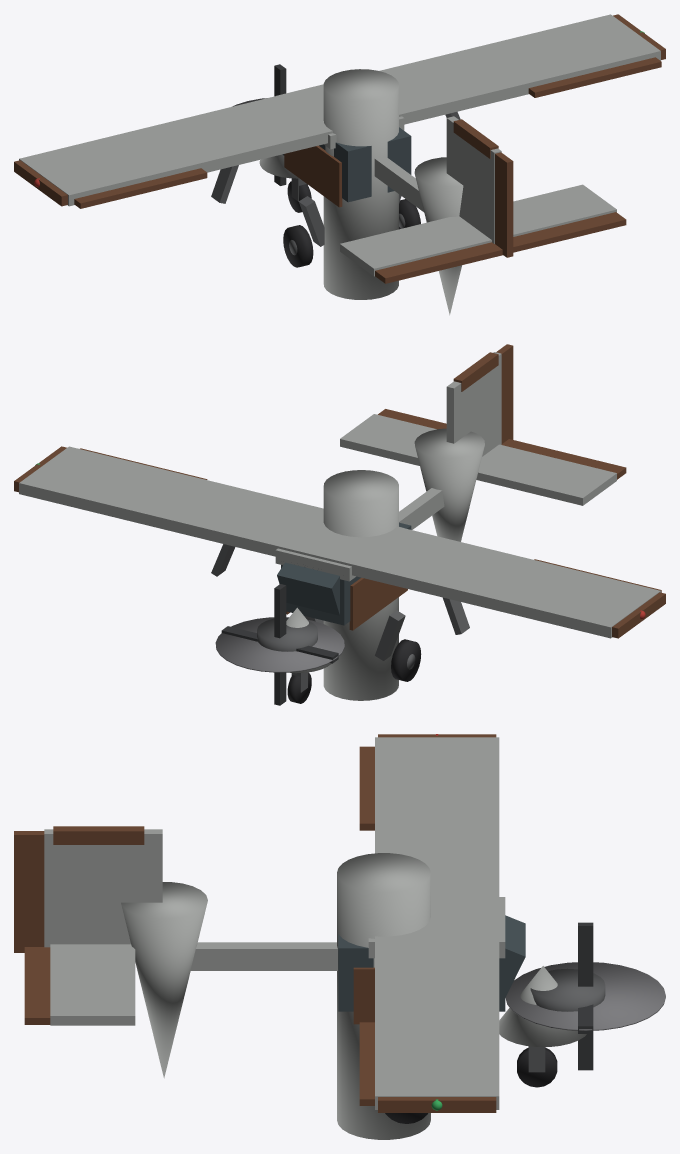
The model's file is light_aircraft_v1.glb.
3 renders of one model, top to bottom at view 1: azimuth 30°, elevation 25°; view 2: azimuth 150°, elevation 25°; view 3: azimuth 270°, elevation 25°, orthographic. The views are drawn at different scales.
Visible parts, largest first — view 1: Plane_Hull, Elevator, Rudder, Aileron_L, Aileron_R, Wheel_Main_L, Plane_Prop; view 2: Plane_Hull, Disc_Blur, Plane_Prop, Elevator, Rudder, Wheel_Main_L; view 3: Plane_Hull, Disc_Blur, Rudder, Elevator, Plane_Prop, Aileron_L, Aileron_R, Wheel_Nose.
Part boxes in pixels (x1,y1,x2,y2): Plane_Hull: [14, 14, 665, 315]; Elevator: [375, 212, 626, 283]; Rudder: [495, 152, 513, 257]; Aileron_L: [74, 168, 207, 208]; Aileron_R: [528, 57, 661, 97]; Wheel_Main_L: [283, 225, 313, 267]; Plane_Prop: [274, 64, 286, 185]; Plane_Hull: [14, 352, 665, 700]; Disc_Blur: [215, 617, 344, 672]; Plane_Prop: [221, 584, 338, 705]; Elevator: [378, 409, 626, 479]; Rudder: [496, 344, 513, 443]; Wheel_Main_L: [391, 639, 421, 681]; Plane_Hull: [44, 734, 605, 1139]; Disc_Blur: [505, 962, 665, 1030]; Rudder: [14, 831, 44, 952]; Elevator: [24, 947, 50, 1024]; Plane_Prop: [578, 922, 593, 1070]; Aileron_L: [359, 746, 374, 830]; Aileron_R: [359, 1022, 374, 1105]; Wheel_Nose: [517, 1047, 557, 1087].
Bounding box in the file's own units: 11.55 × 4.24 × 8.6.
